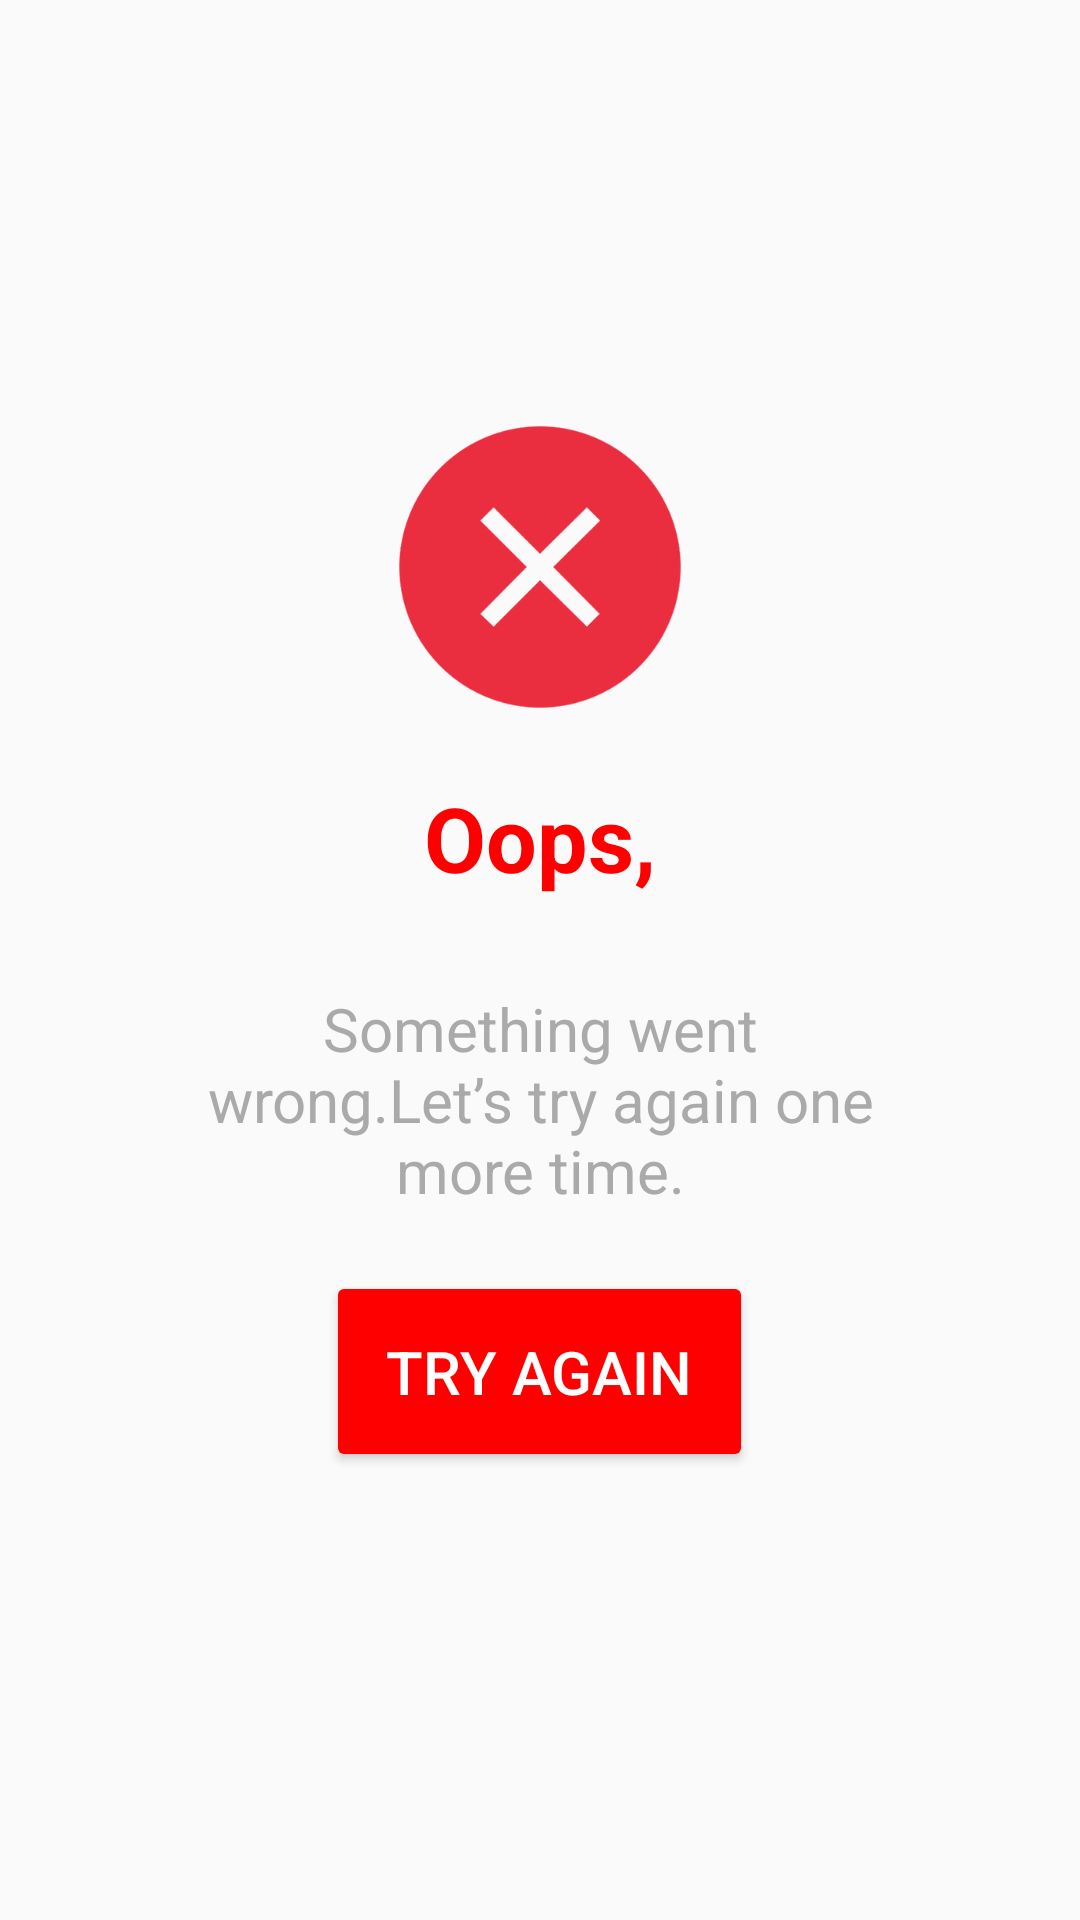

Icons on this 1080*1920 Android screen, each with its box as box=[x1, y1, x2, y2]:
error: box=[399, 426, 681, 708]
